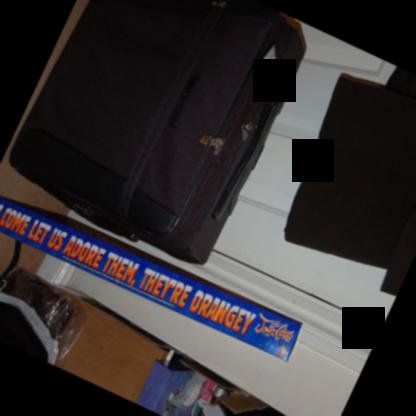suitcase: (3, 0, 306, 269)
